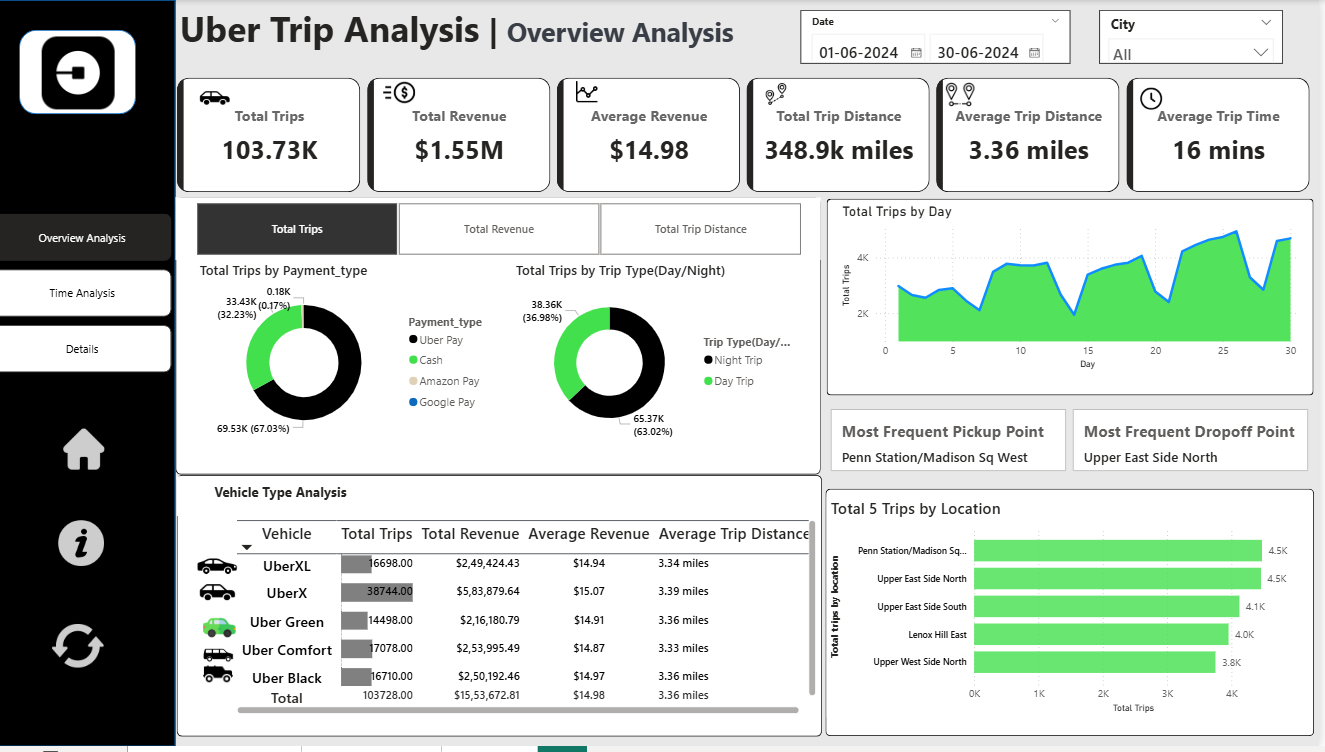

The page's visual inventory and layout, read from the dashboard file:
{"tool":"powerbi","page":{"name":"Overview Analysis","canvas":[1600,900],"ordinal":0},"visuals":[{"type":"shape","box":[32.1,35.6,140.8,101.6],"z":0,"group":"g2"},{"type":"shape","box":[219.6,238.4,778.7,334.5],"z":0},{"type":"image","box":[216.1,651.8,109.8,63.3],"z":0,"group":"g1"},{"type":"shape","box":[0,0,220,900.5],"z":1000},{"type":"image","box":[46.5,38.1,112,97.8],"z":1000,"group":"g2"},{"type":"image","box":[224.7,688.2,92.6,53.8],"z":1000,"group":"g1"},{"type":"textbox","box":[219.6,0,909.1,152.7],"z":2000},{"type":"image","box":[224.7,732.5,96.1,49.1],"z":2000,"group":"g1"},{"type":"cardVisual","fields":{"Data":["Trip Details.Total Trips","Trip Details.Total Revenue","Trip Details.Average Revenue","Trip Details.Total Trip Distance","Trip Details.Average Trip Distance","Trip Details.Average Trip Time"]},"box":[216.9,89,1380.9,148.3],"z":3000},{"type":"image","box":[223,765.8,96.1,49.1],"z":3000,"group":"g1"},{"type":"image","box":[492.3,415.1,382.5,12],"z":4000},{"type":"image","box":[226.4,791.1,90.9,45.9],"z":4000,"group":"g1"},{"type":"image","box":[1363.6,101.2,68.6,36],"z":5000},{"type":"image","box":[1128.6,92.6,77.2,44.6],"z":6000},{"type":"image","box":[928,89.2,36,48],"z":7000},{"type":"image","box":[696.4,82.3,39.5,54.9],"z":8000},{"type":"image","box":[243.6,82.3,46.3,70.3],"z":9000},{"type":"image","box":[466.6,85.8,48,51.5],"z":10000},{"type":"slicer","fields":{"Values":["Dynamic Measure.Dynamic Measure"]},"box":[219.6,238.4,778.7,75.5],"z":11000},{"type":"donutChart","fields":{"Y":["Trip Details.Total Trips"],"Category":["Trip Details.Payment_type"]},"box":[243.6,313.9,367.1,226.4],"z":12000},{"type":"donutChart","fields":{"Y":["Trip Details.Total Trips"],"Category":["Trip Details.Trip Type(Day/Night)"]},"box":[626.1,313.9,348.2,226.4],"z":13000},{"type":"shape","box":[221.3,572.9,778.7,315.6],"z":14000},{"type":"pivotTable","fields":{"Rows":["Trip Details.Vehicle"],"Values":["Trip Details.Total Trips","Trip Details.Total Revenue","Trip Details.Average Revenue","Trip Details.Average Trip Distance"]},"box":[289.9,622.6,708.4,243.6],"z":15000},{"type":"group","id":"g1","title":"Group 1","box":[216.1,651.8,109.8,185.2],"z":16000},{"type":"textbox","box":[221.3,574.6,475.1,48],"z":17000},{"type":"shape","box":[1006.5,239.1,587.6,237.3],"z":18000},{"type":"cardVisual","fields":{"Data":["Trip Details.Most Frequent Pickup Point","Trip Details.Most Frequent Dropoff Point"]},"box":[1006.5,489.3,587.6,85.3],"z":19000},{"type":"slicer","fields":{"Values":["Location Table.City"]},"box":[1334.5,12,221.3,65.2],"z":20000},{"type":"slicer","fields":{"Values":["Calendar Table.Date"]},"box":[974.3,12,325.9,65.2],"z":21000},{"type":"group","id":"g2","title":"Group 2","box":[32.1,35.6,140.8,101.6],"z":22000},{"type":"pageNavigator","box":[0,258.4,215.6,192.4],"z":23000},{"type":"image","box":[79.7,507.9,59.3,66.7],"z":24000},{"type":"image","box":[74.1,622.8,64.9,64.9],"z":25000},{"type":"image","box":[66.7,737.7,72.3,83.4],"z":26000},{"type":"shape","box":[1004.6,589.4,589.4,298.4],"z":28000},{"type":"barChart","title":"Total 5 Trips by Location","fields":{"Category":["Location Table.Location"],"Y":["Trip Details.Total Trips"]},"box":[1006.5,600.6,574.6,265.1],"z":29000},{"type":"areaChart","fields":{"Category":["Calendar Table.Date.Variation.Date Hierarchy.Day"],"Y":["Trip Details.Total Trips"]},"box":[1019.5,244.7,574.6,205.7],"z":30000}]}

Visuals, with their boxes on the page's 1600x900 design canvas (x1, y1, x2, y2). These are canvas units, not pixel positions in the 1325x752 screenshot, which may show the page scaled, cropped or inside an application window:
shape: crop(32, 36, 173, 137)
shape: crop(220, 238, 998, 573)
image: crop(216, 652, 326, 715)
shape: crop(0, 0, 220, 900)
image: crop(46, 38, 158, 136)
image: crop(225, 688, 317, 742)
textbox: crop(220, 0, 1129, 153)
image: crop(225, 732, 321, 782)
cardVisual - Trip Details.Total Trips x Trip Details.Total Revenue: crop(217, 89, 1598, 237)
image: crop(223, 766, 319, 815)
image: crop(492, 415, 875, 427)
image: crop(226, 791, 317, 837)
image: crop(1364, 101, 1432, 137)
image: crop(1129, 93, 1206, 137)
image: crop(928, 89, 964, 137)
image: crop(696, 82, 736, 137)
image: crop(244, 82, 290, 153)
image: crop(467, 86, 515, 137)
slicer - Dynamic Measure.Dynamic Measure: crop(220, 238, 998, 314)
donutChart - Trip Details.Total Trips x Trip Details.Payment_type: crop(244, 314, 611, 540)
donutChart - Trip Details.Total Trips x Trip Details.Trip Type(Day/Night): crop(626, 314, 974, 540)
shape: crop(221, 573, 1000, 888)
pivotTable - Trip Details.Vehicle x Trip Details.Total Trips: crop(290, 623, 998, 866)
"Group 1" group: crop(216, 652, 326, 837)
textbox: crop(221, 575, 696, 623)
shape: crop(1006, 239, 1594, 476)
cardVisual - Trip Details.Most Frequent Pickup Point x Trip Details.Most Frequent Dropoff Point: crop(1006, 489, 1594, 575)
slicer - Location Table.City: crop(1334, 12, 1556, 77)
slicer - Calendar Table.Date: crop(974, 12, 1300, 77)
"Group 2" group: crop(32, 36, 173, 137)
pageNavigator: crop(0, 258, 216, 451)
image: crop(80, 508, 139, 575)
image: crop(74, 623, 139, 688)
image: crop(67, 738, 139, 821)
shape: crop(1005, 589, 1594, 888)
"Total 5 Trips by Location" barChart: crop(1006, 601, 1581, 866)
areaChart - Calendar Table.Date.Variation.Date Hierarchy.Day x Trip Details.Total Trips: crop(1020, 245, 1594, 450)
